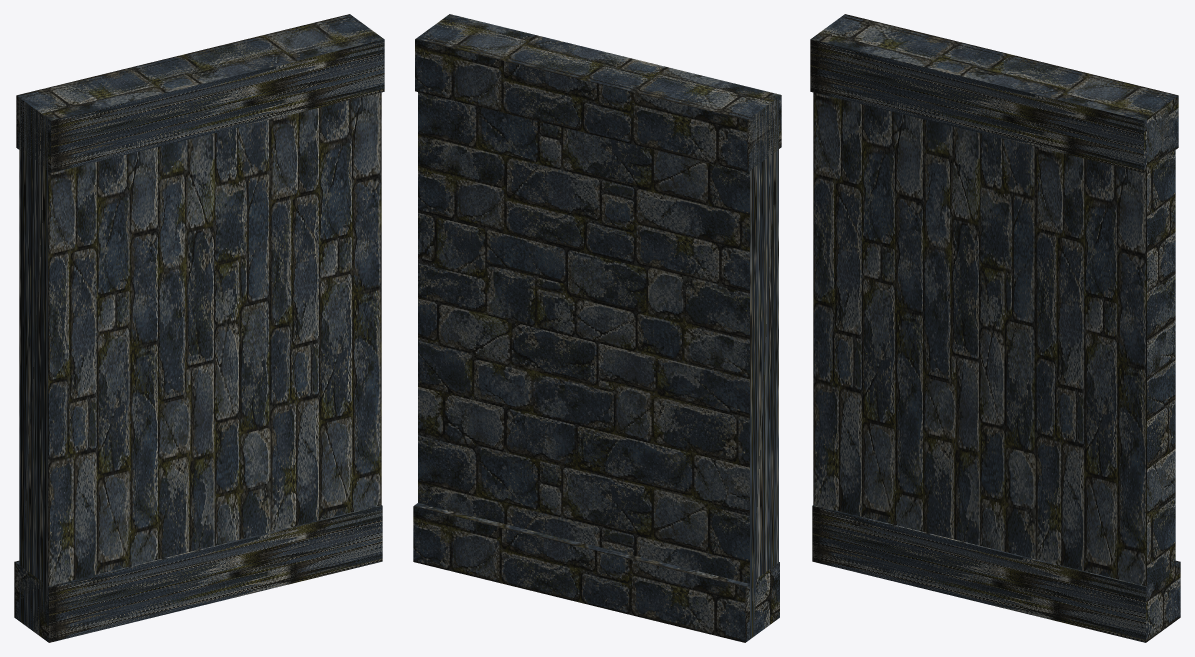
File: M_Parede_2m.obj
3 renders of one model, left to right at view 1: azimuth 30°, elevation 25°; view 2: azimuth 150°, elevation 25°; view 3: azimuth 330°, elevation 25°, orthographic.
Parts seen in each view (by area): view 1: M_Parede_2m; view 2: M_Parede_2m; view 3: M_Parede_2m.
Part boxes in pixels (box(x1,y1,x2,y2)): M_Parede_2m: box(14, 14, 384, 642); M_Parede_2m: box(413, 14, 781, 642); M_Parede_2m: box(810, 14, 1180, 642).
Bounding box in the file's own units: 2 × 3 × 0.38.
1 material, 1 textured.
